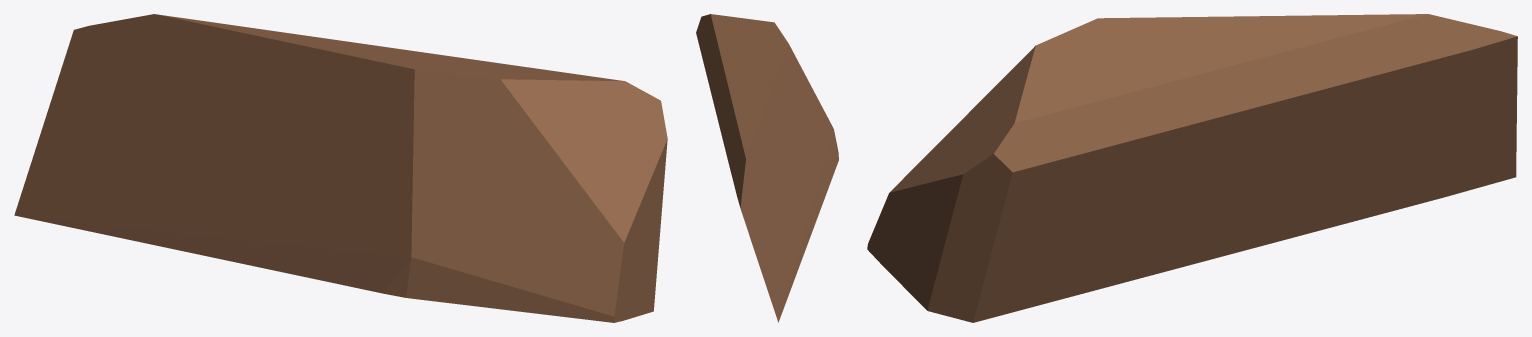
File: WoodCellCube_003_cell_017.fbx
The picture shows the model from 3 angles, left to right: view 1: azimuth 30°, elevation 25°; view 2: azimuth 150°, elevation 25°; view 3: azimuth 270°, elevation 25°; orthographic projection. The views are drawn at different scales.
Parts seen in each view (by area): view 1: WoodCellCube_003_cell_017; view 2: WoodCellCube_003_cell_017; view 3: WoodCellCube_003_cell_017.
Boxes of the visible parts, x1,y1,x2,y2 form: WoodCellCube_003_cell_017: (14, 14, 667, 322); WoodCellCube_003_cell_017: (696, 14, 838, 322); WoodCellCube_003_cell_017: (867, 14, 1517, 322).
Size of the model in its own units: 0.6475 by 0.2773 by 0.4438.
1 material, 1 textured.
